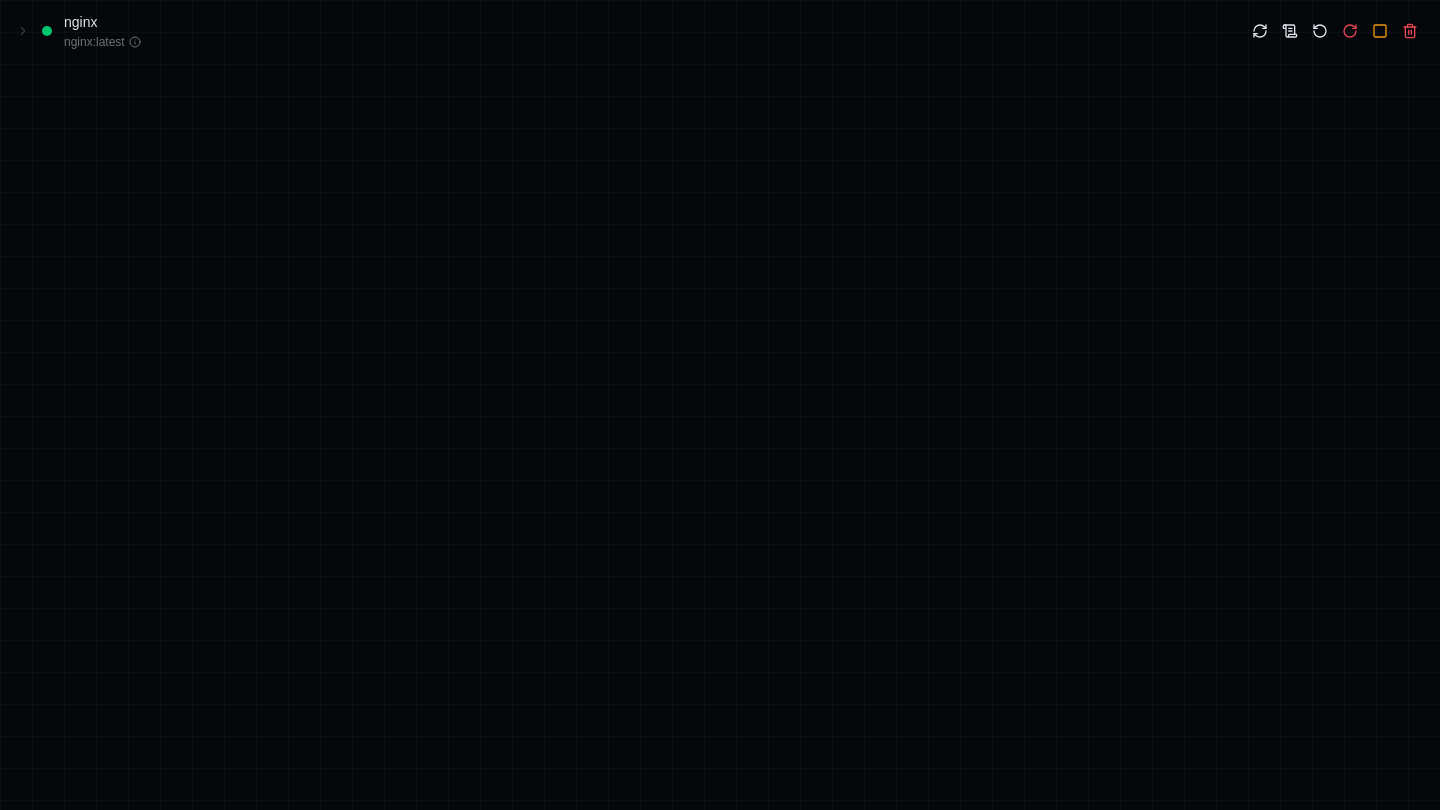
ContainerRow › clicking chevron again collapses the panel
The width and height of the screenshot is (1440, 810).
Click the button named "Expand".
click(23, 31)  # box [16,24,30,38]
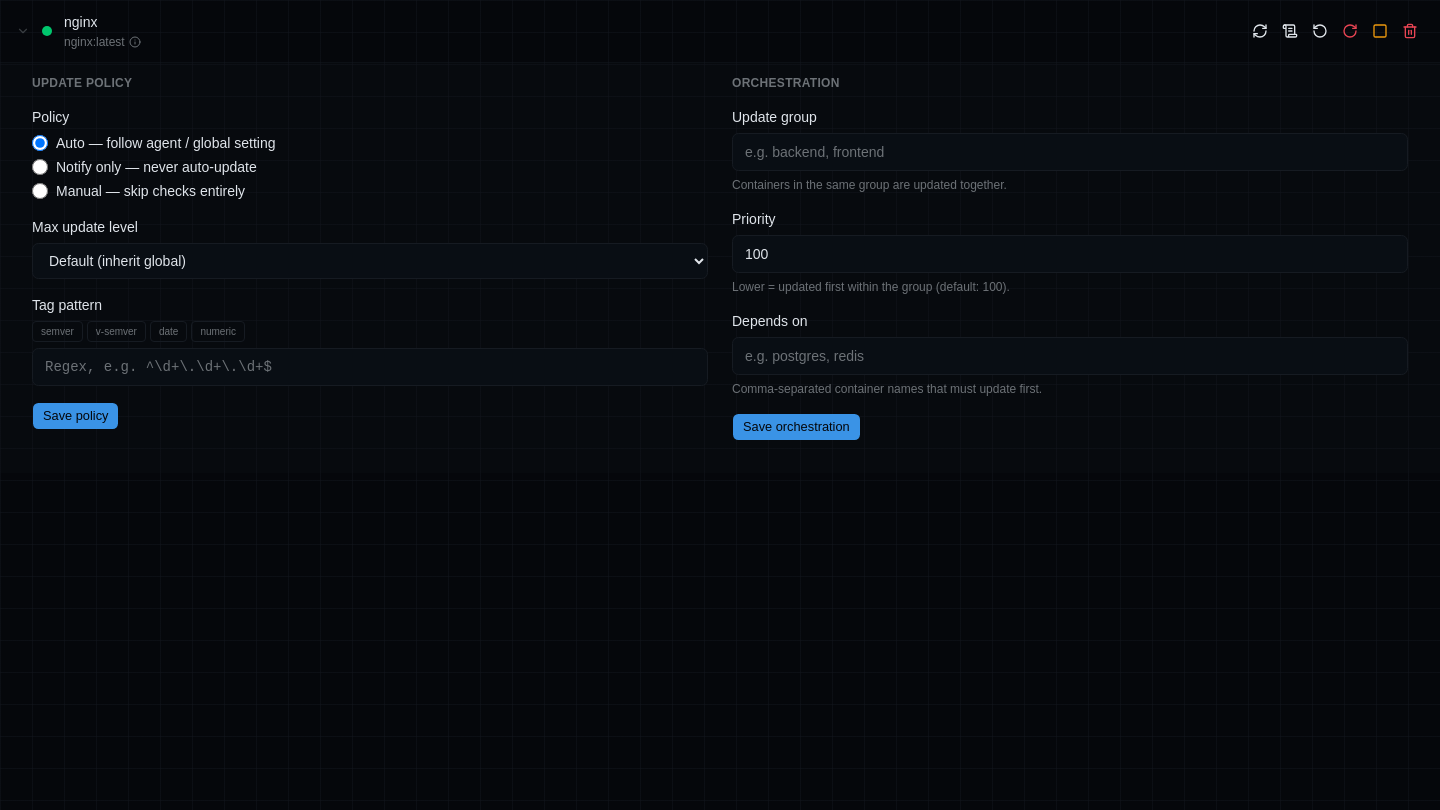
Click the button named "Collapse".
click(23, 31)  # box [16,24,30,38]
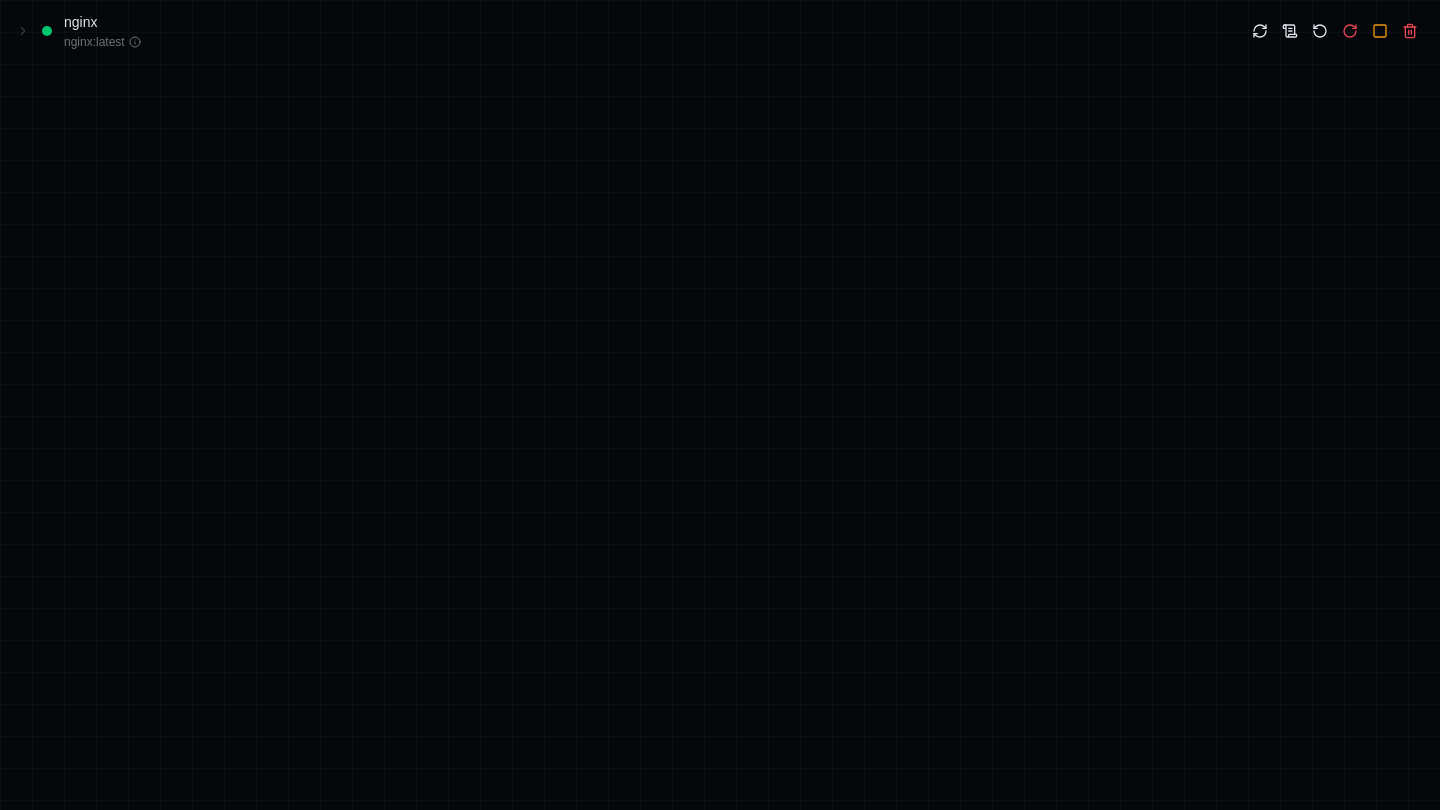
Now the text "Update Policy" is gone
